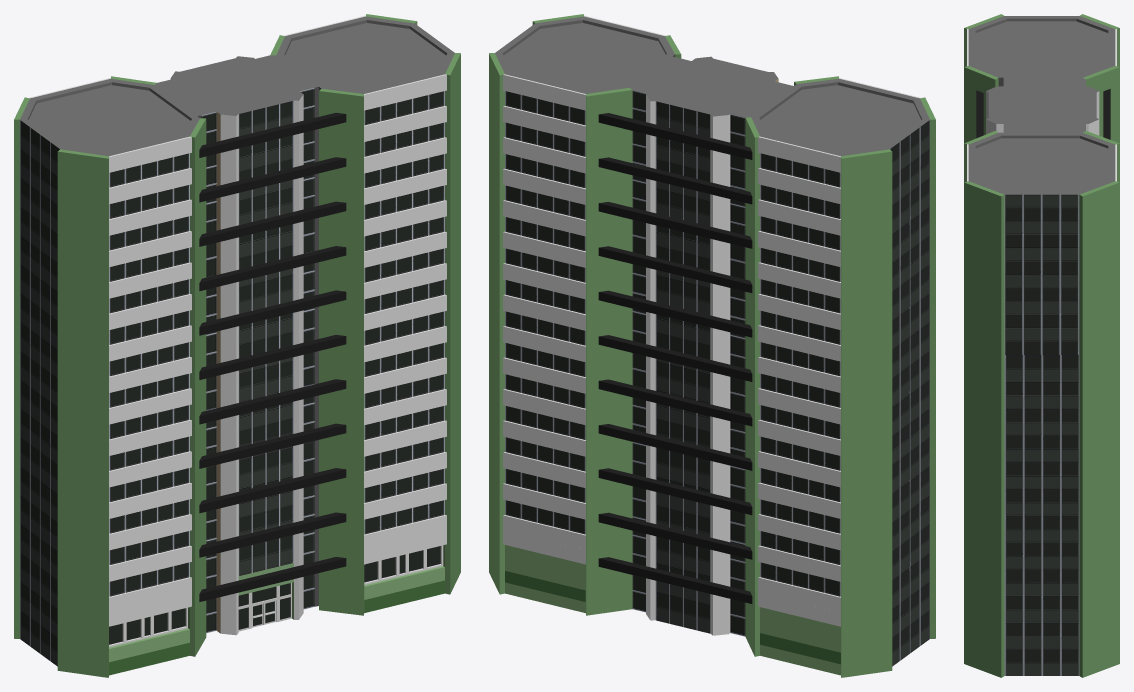
3 views of the same model, side by side, from view 1: azimuth 30°, elevation 25°; view 2: azimuth 150°, elevation 25°; view 3: azimuth 270°, elevation 25° (orthographic). The views are drawn at different scales.
Parts seen in each view (by area): view 1: BC-06; view 2: BC-06; view 3: BC-06.
Boxes of the visible parts, box(x1,y1,x2,y2) form: BC-06: box(14, 14, 460, 677); BC-06: box(489, 14, 935, 677); BC-06: box(964, 14, 1119, 677).
Size of what is drawn, in the model's own units: 47.52 by 58.46 by 17.13.
